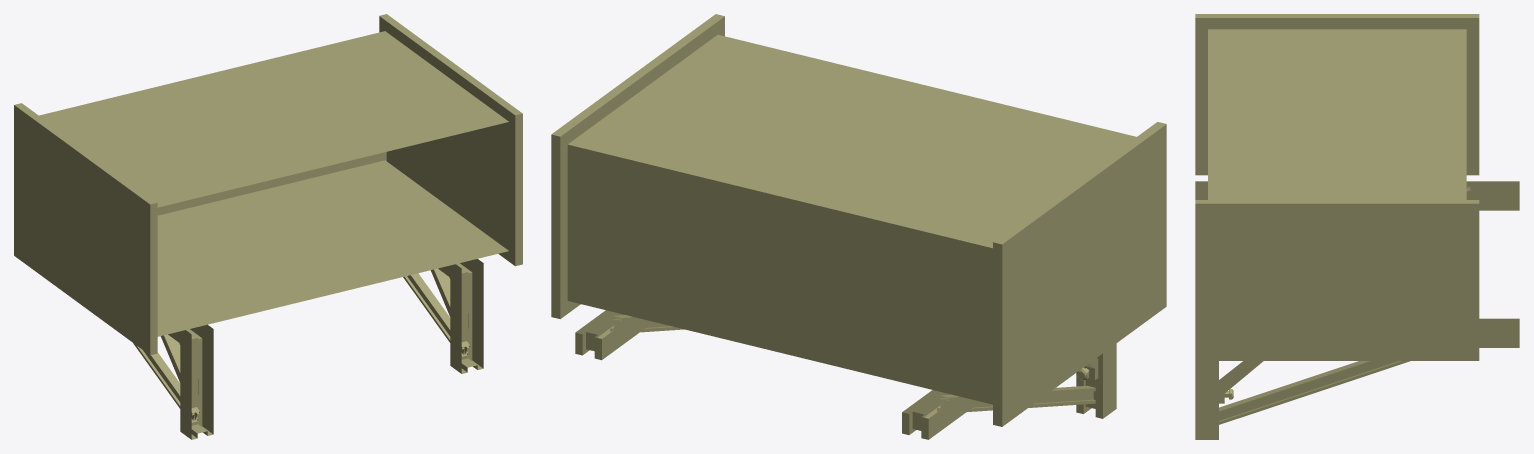
Rendered from SM_VentBox.fbx.
3 views of the same model, side by side, from view 1: azimuth 30°, elevation 25°; view 2: azimuth 150°, elevation 25°; view 3: azimuth 270°, elevation 25° (orthographic). The views are drawn at different scales.
Parts seen in each view (by area): view 1: SM_VentBox; view 2: SM_VentBox; view 3: SM_VentBox.
Boxes of the visible parts, left/top/right/bottom form: SM_VentBox: left=14, top=14, right=522, bottom=439; SM_VentBox: left=551, top=14, right=1166, bottom=439; SM_VentBox: left=1195, top=14, right=1519, bottom=439.
Bounding box in the file's own units: 176 × 111 × 127.
